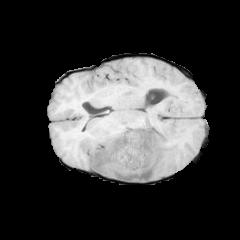glioma: (89, 120, 178, 181)
